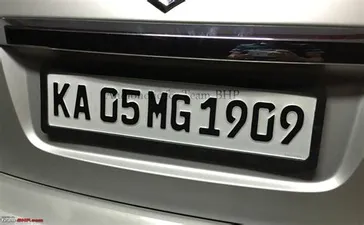number_plate: (30, 65, 341, 181)
